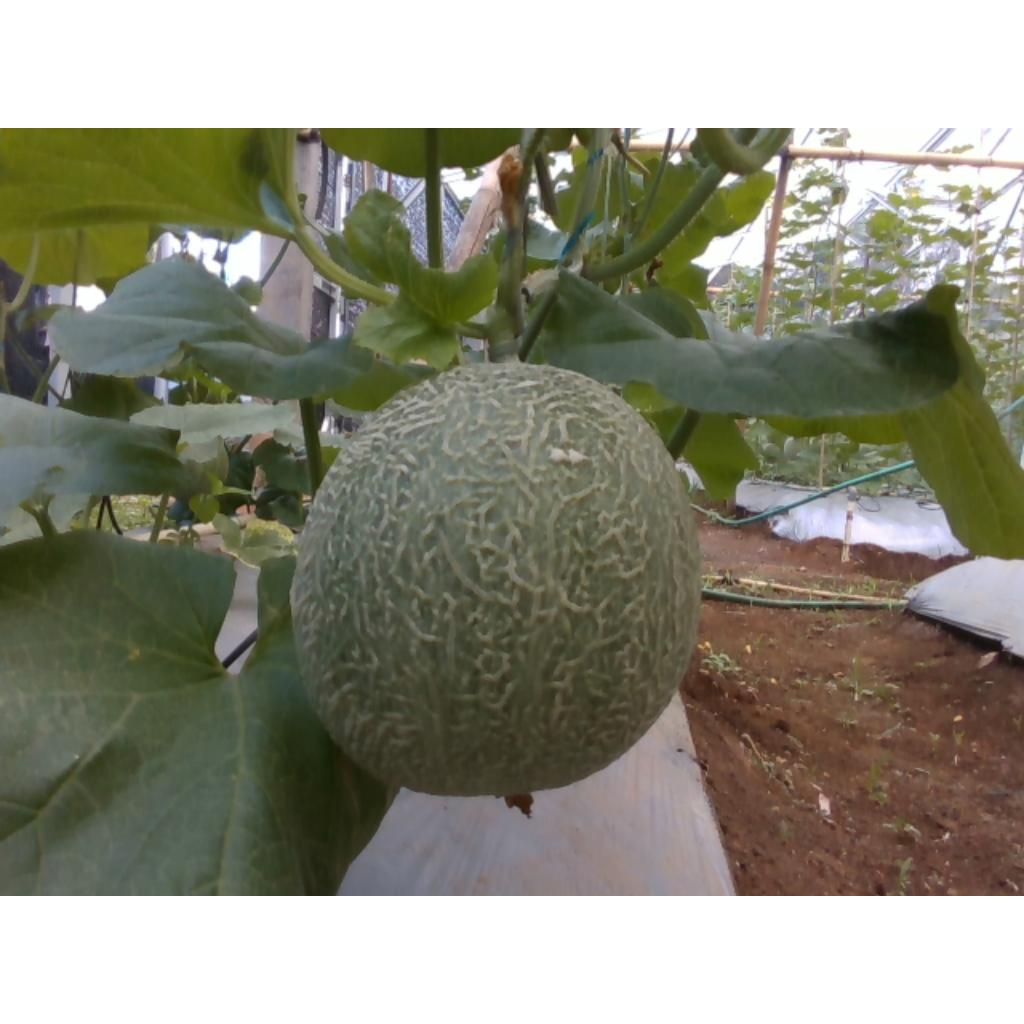melon: (291, 363, 701, 796)
